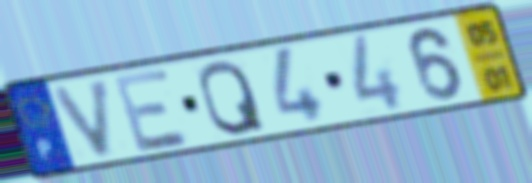4: (350, 32, 408, 115), (272, 44, 327, 129)
6: (405, 23, 466, 104)
E: (109, 65, 194, 156)
Q: (196, 57, 270, 138)
V: (48, 75, 114, 162)
